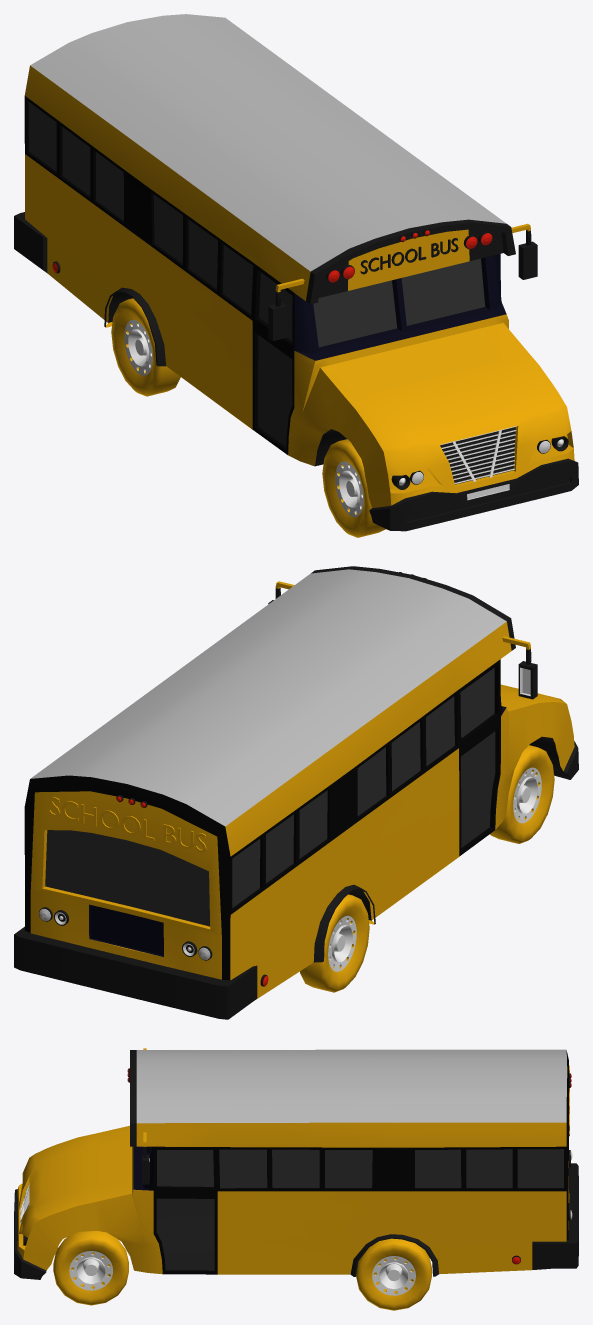
Rendered from vehicle_5.fbx.
3 renders of one model, top to bottom at view 1: azimuth 30°, elevation 25°; view 2: azimuth 150°, elevation 25°; view 3: azimuth 270°, elevation 25°, orthographic. The views are drawn at different scales.
Parts seen in each view (by area): view 1: Bus, Tire_4, Tire_2; view 2: Bus, Tire_4, Tire_2; view 3: Bus, Tire_1, Tire_3.
Boxes of the visible parts, x1,y1,x2,y2 form: Bus: [14, 14, 578, 531]; Tire_4: [111, 298, 180, 396]; Tire_2: [322, 439, 385, 537]; Bus: [14, 566, 578, 1019]; Tire_4: [300, 894, 369, 992]; Tire_2: [490, 745, 554, 843]; Bus: [14, 1048, 578, 1279]; Tire_1: [53, 1231, 128, 1305]; Tire_3: [356, 1238, 431, 1310].
Size of the model in its own units: 207 by 196 by 499.
